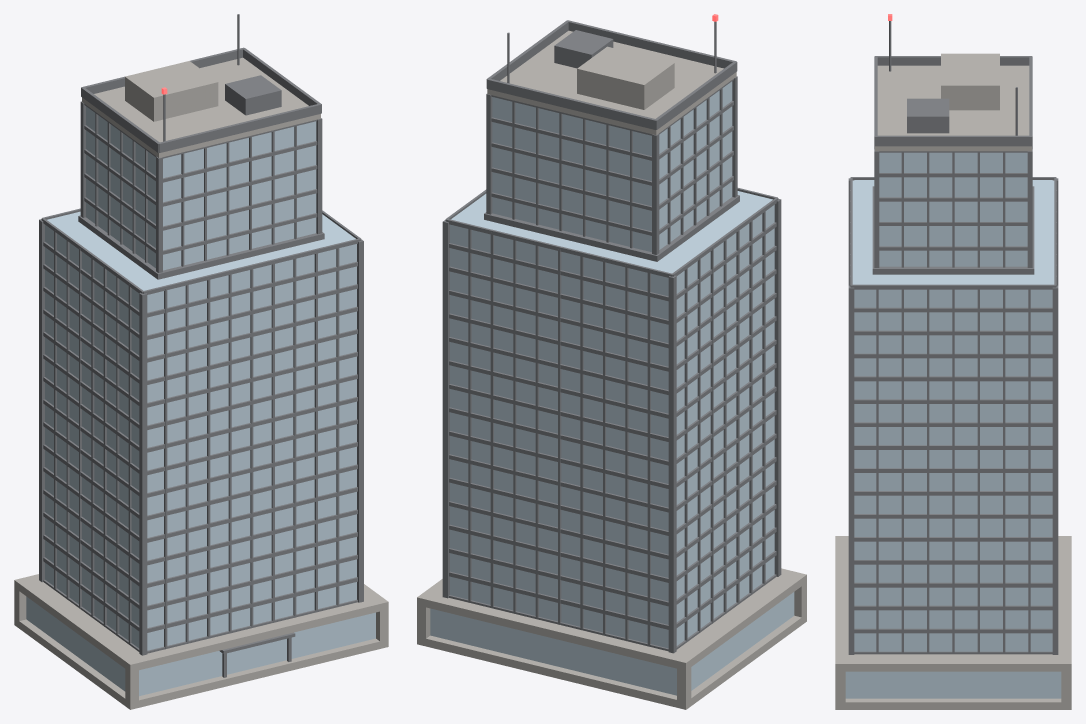
Rendered from vi_glass_tower.glb.
The picture shows the model from 3 angles, left to right: view 1: azimuth 30°, elevation 25°; view 2: azimuth 150°, elevation 25°; view 3: azimuth 270°, elevation 25°; orthographic projection. The views are drawn at different scales.
Visible parts, largest first — view 1: vi_glass_tower; view 2: vi_glass_tower; view 3: vi_glass_tower.
Part boxes in pixels (x1,y1,x2,y2): vi_glass_tower: [14, 14, 388, 709]; vi_glass_tower: [417, 14, 806, 709]; vi_glass_tower: [835, 14, 1071, 709].
Bounding box in the file's own units: 36 × 78.15 × 28.
